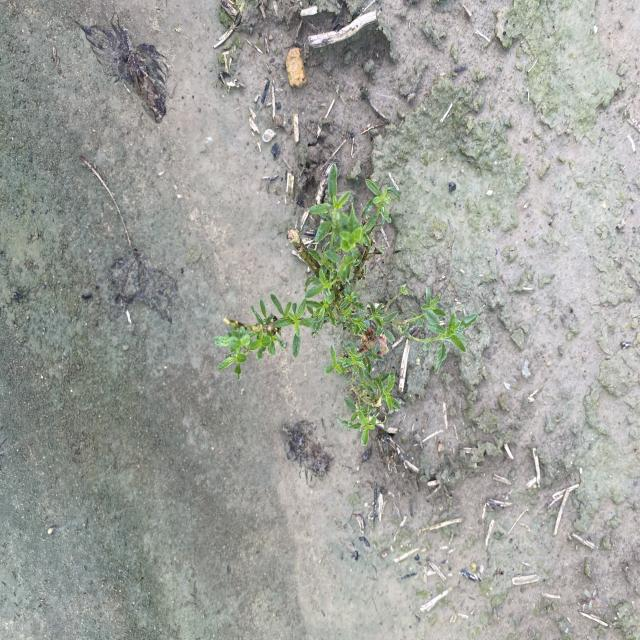Waterhemp: (211, 162, 481, 446)
